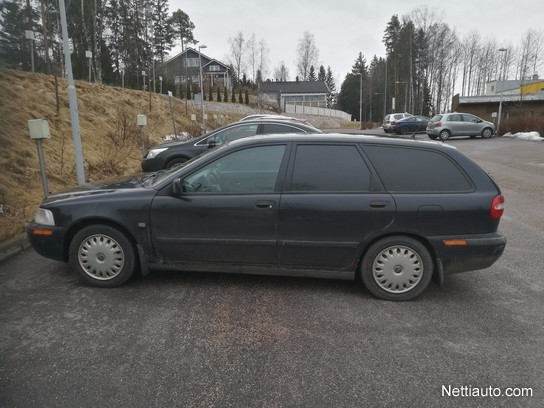car: (28, 131, 504, 298), (424, 113, 496, 139)
